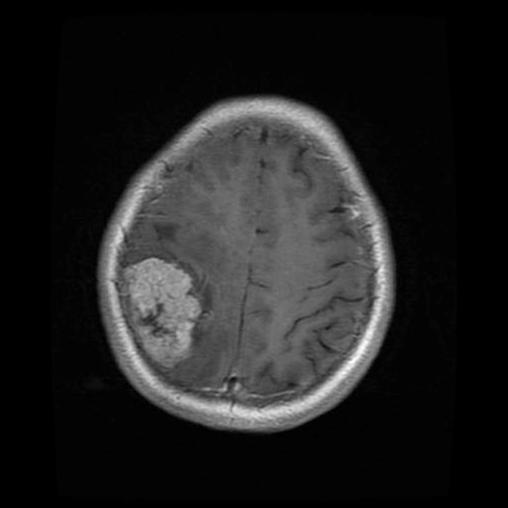Tumour-Meningioma: (117, 253, 231, 383)
